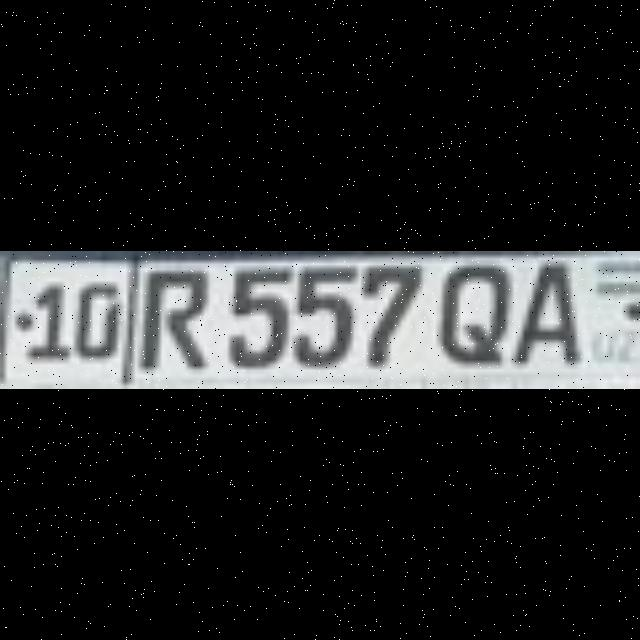0: (64, 272, 112, 348)
1: (22, 272, 64, 352)
5: (218, 256, 278, 358), (288, 256, 346, 358)
7: (352, 256, 411, 358)
A: (507, 256, 571, 358)
Q: (432, 256, 502, 352)
R: (133, 262, 197, 358)
